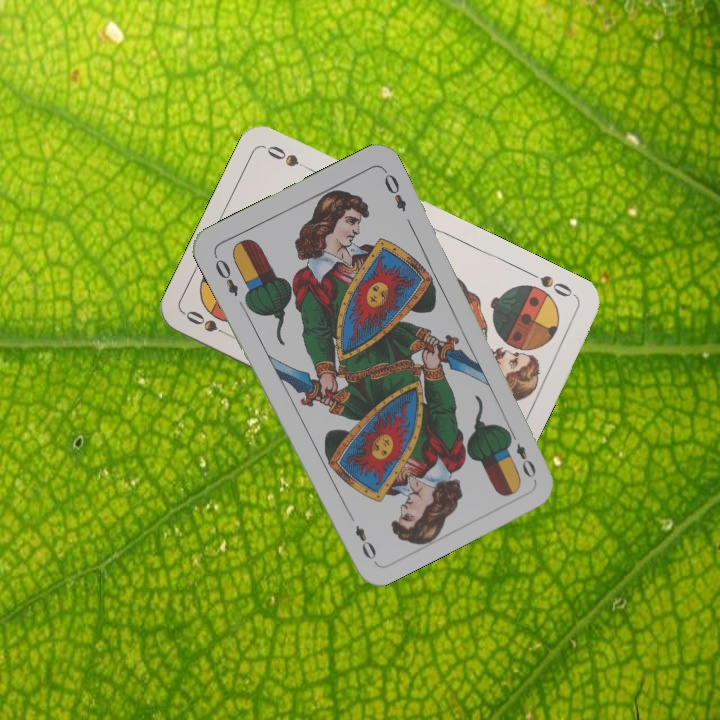EO: (504, 426, 539, 481), (209, 251, 241, 299)
SO: (181, 306, 237, 341), (524, 267, 579, 301)
